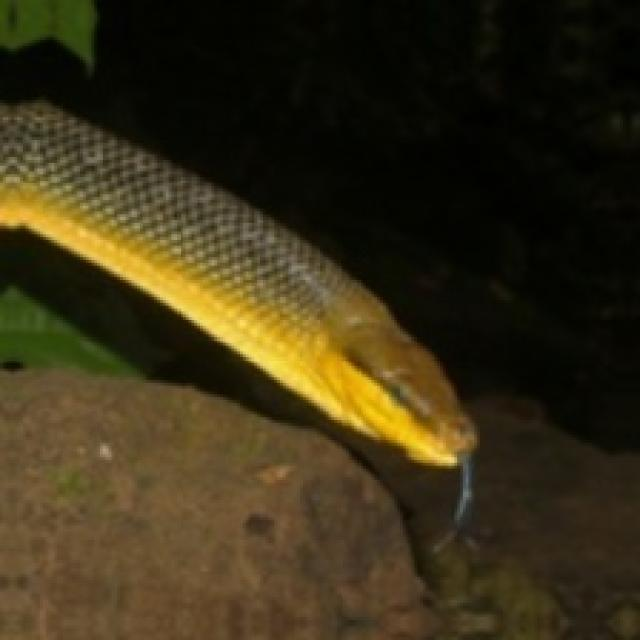red-tailed green ratsnake: (0, 100, 474, 546), (0, 100, 474, 526)
